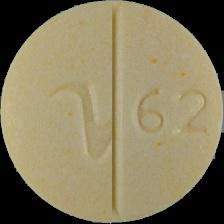61786-804: (0, 0, 224, 224)
